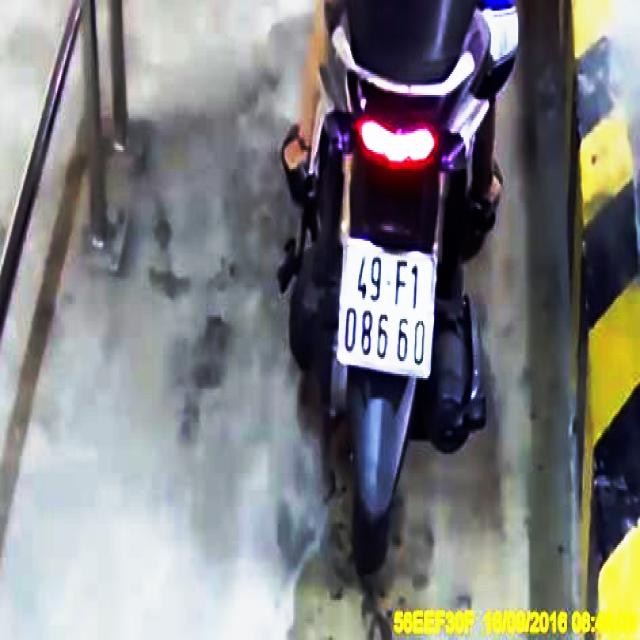license_plate: (337, 241, 440, 381)
